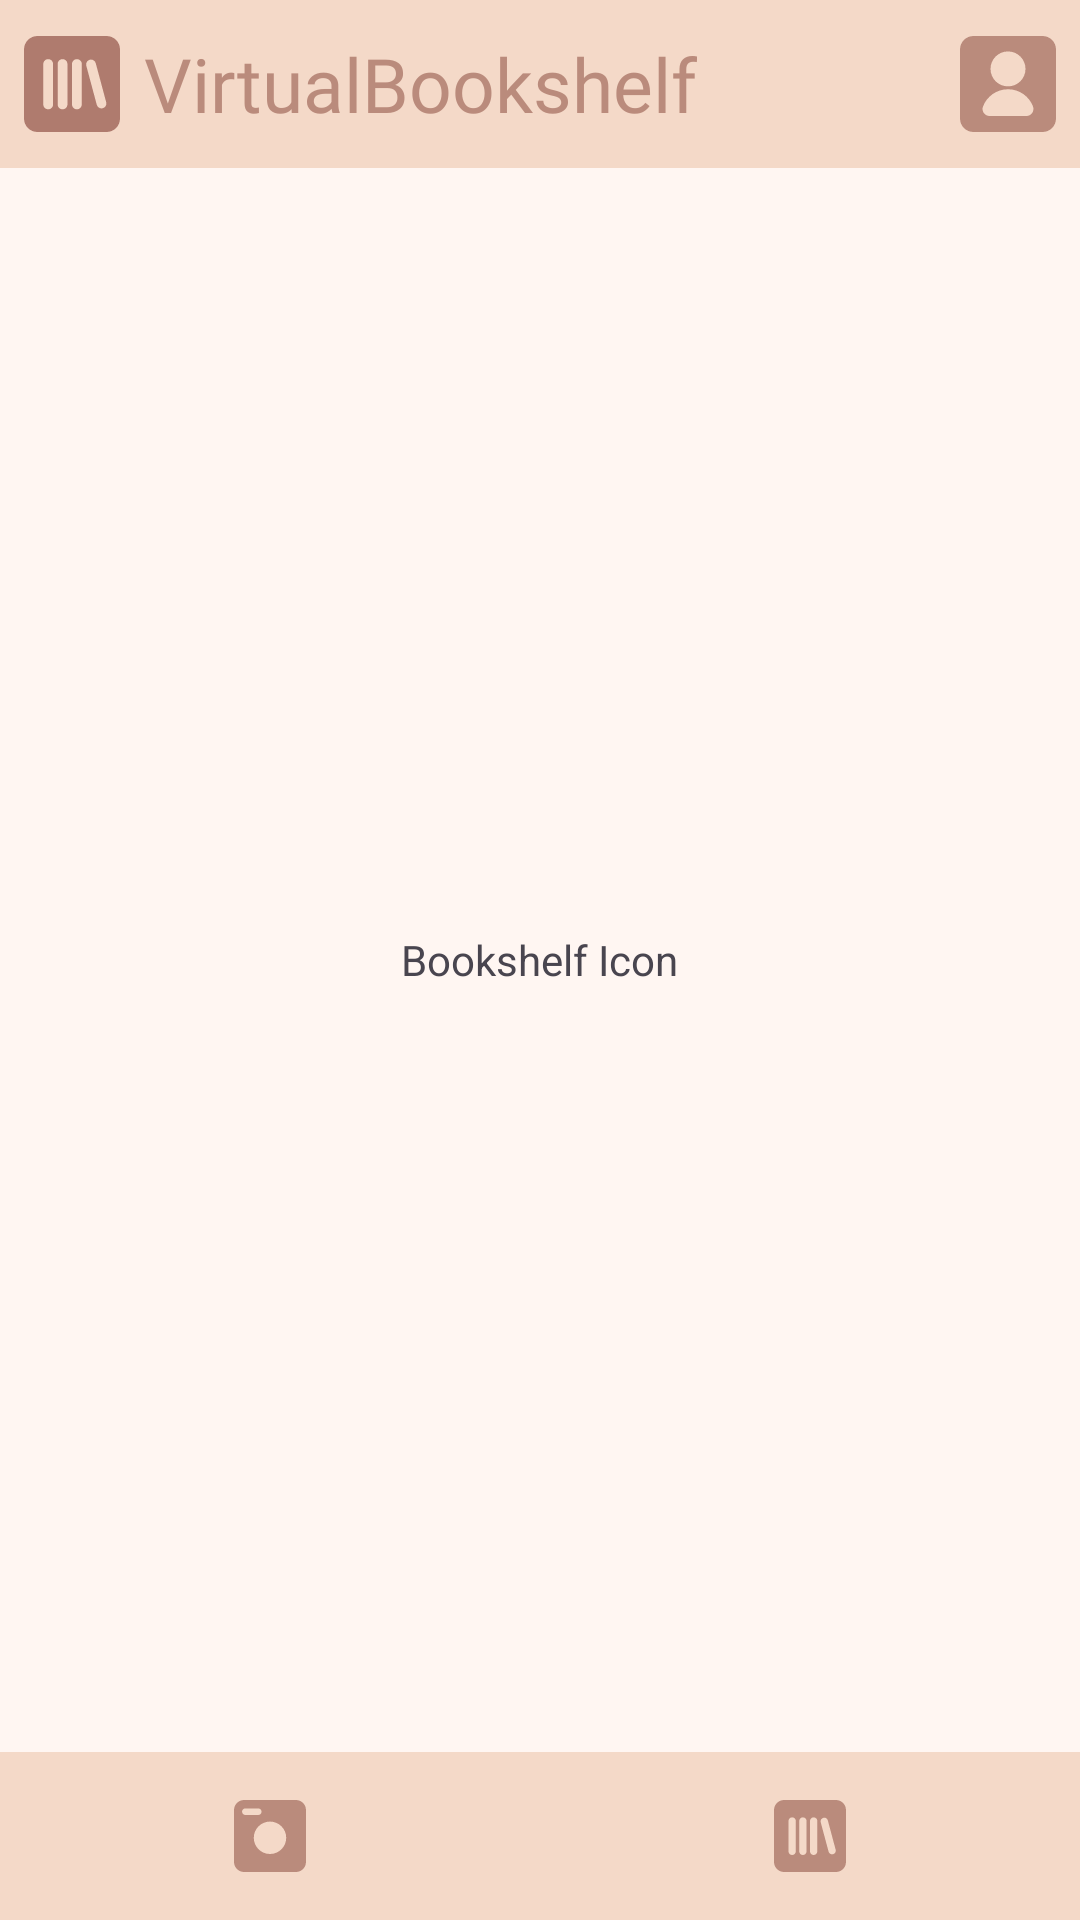

Icon bounding boxes for this 1080px x 1920px phone screenshot, format (x1, y1, x2, y2):
User Icon: (960, 36, 1056, 132)
